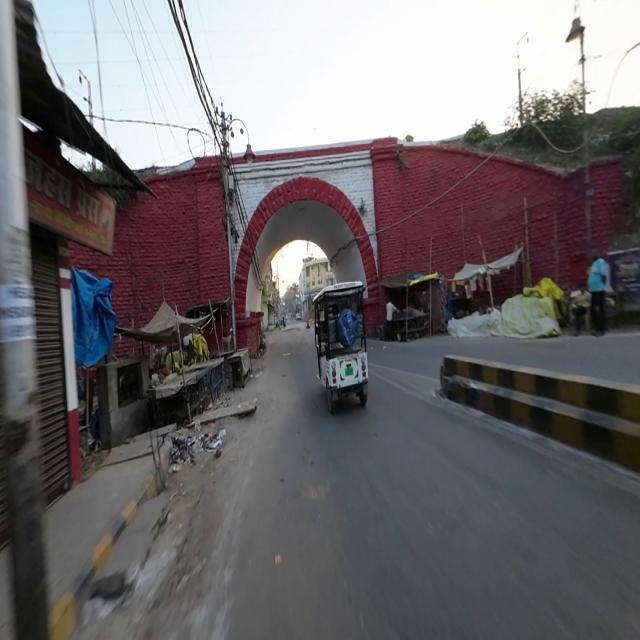Garbage: (169, 428, 199, 472), (202, 430, 226, 460)
